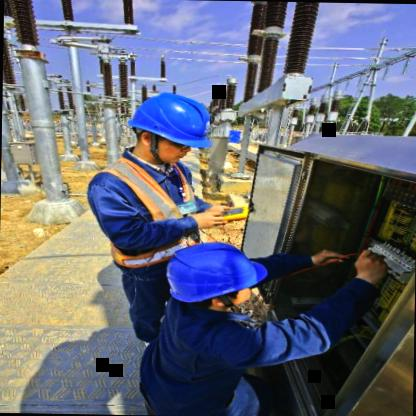helmet: (152, 235, 276, 325), (124, 86, 219, 173)
